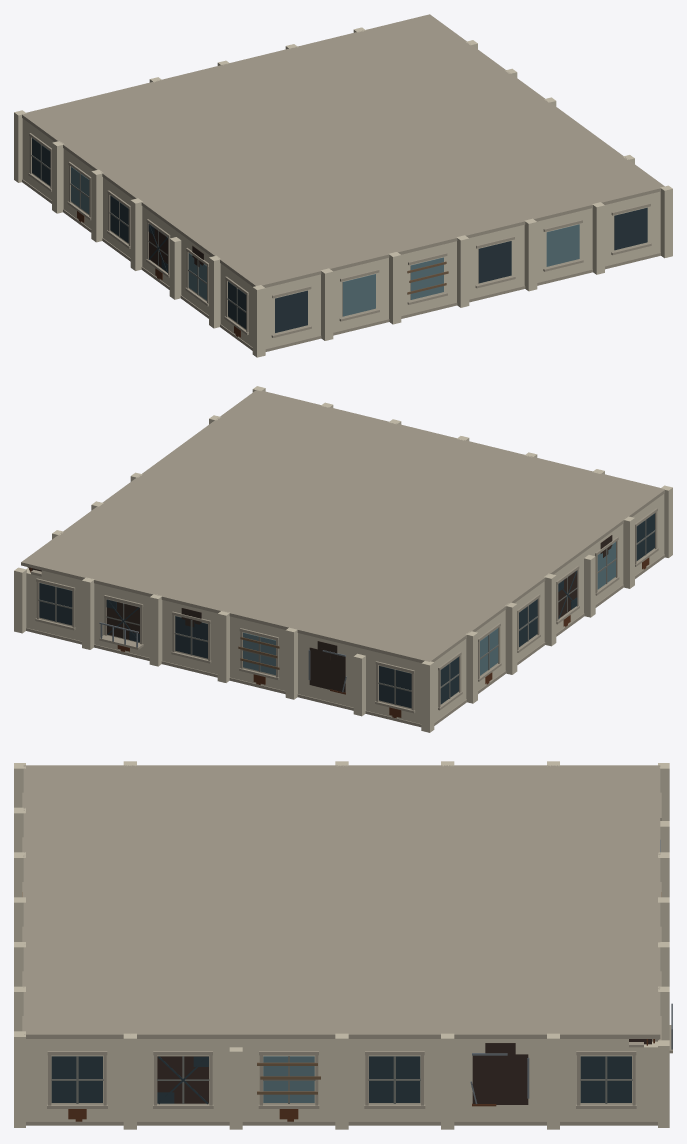
The model's file is tw_stone_24_floor_c.glb.
3 renders of one model, top to bottom at view 1: azimuth 30°, elevation 25°; view 2: azimuth 150°, elevation 25°; view 3: azimuth 270°, elevation 25°, orthographic. The views are drawn at different scales.
Visible parts, largest first — view 1: tw_stone_24_floor_c; view 2: tw_stone_24_floor_c; view 3: tw_stone_24_floor_c.
Part boxes in pixels (<box>): tw_stone_24_floor_c: <box>14,14,672,357</box>; tw_stone_24_floor_c: <box>14,386,672,732</box>; tw_stone_24_floor_c: <box>14,761,672,1129</box>.
Bounding box in the file's own units: 24.8 × 3.8 × 24.92.
3 materials, 3 textured.
